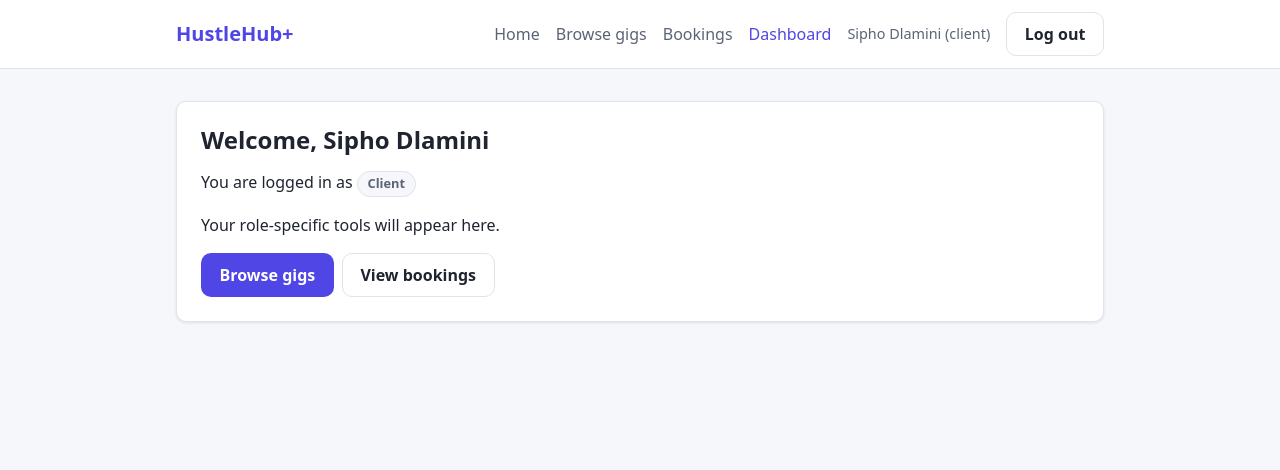
Test case: ProtectedRoute and session handling › logs out, clears the session and returns to the login page
Click the button "Log out" at (1055, 34), box x1=1006 y1=12 x2=1104 y2=56
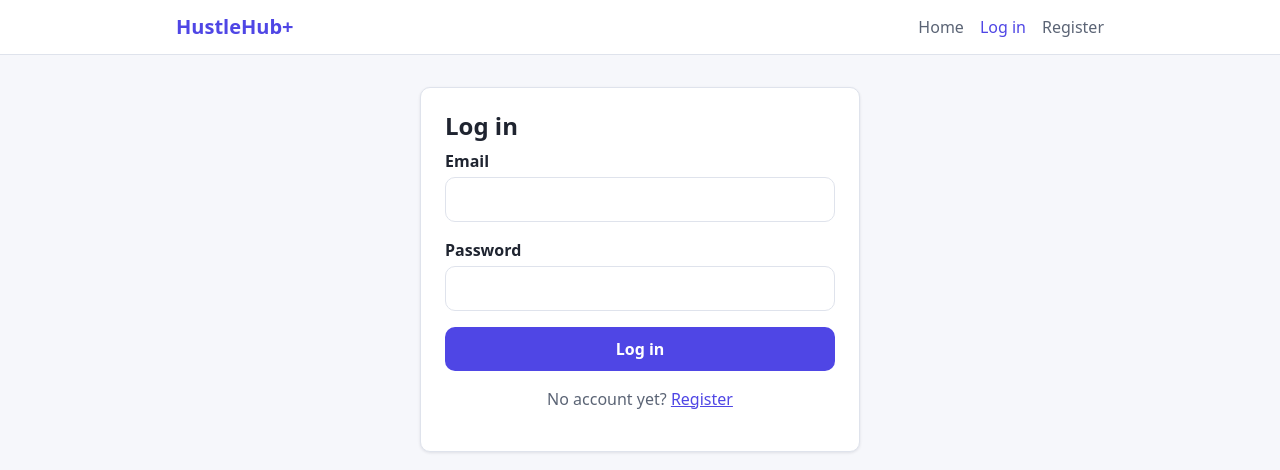
Expected: the heading "Log in" is shown, x1=445 y1=109 x2=518 y2=142
